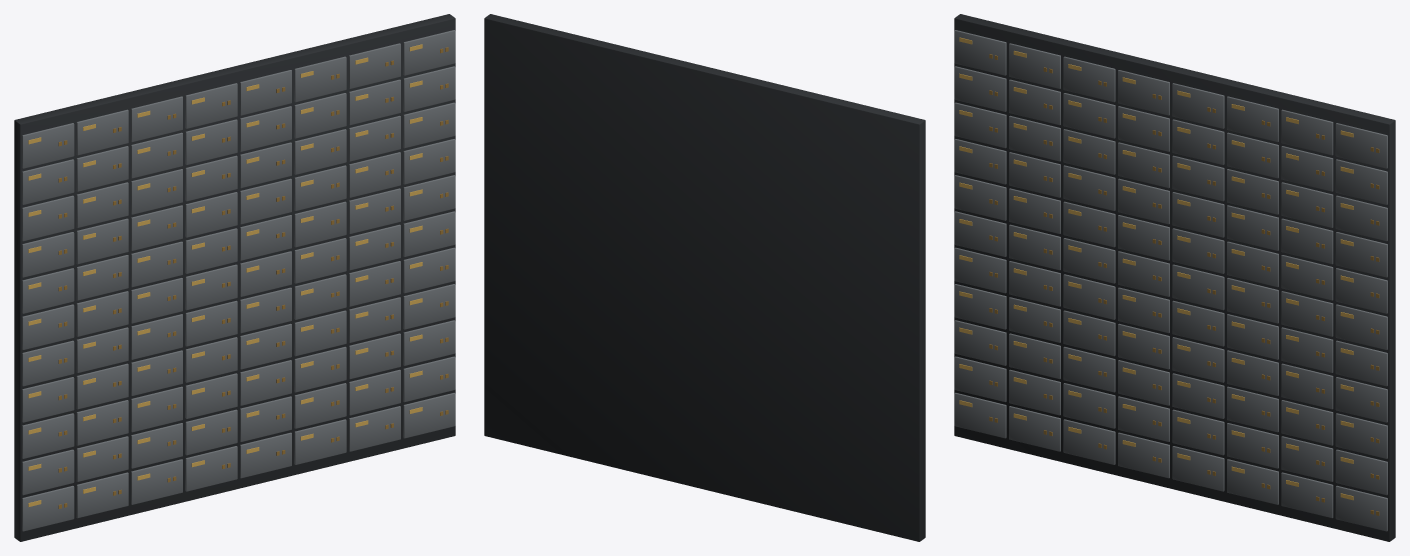
Rendered from tideline_deposit_boxes.glb.
The picture shows the model from 3 angles, left to right: view 1: azimuth 30°, elevation 25°; view 2: azimuth 150°, elevation 25°; view 3: azimuth 330°, elevation 25°; orthographic projection.
Visible parts, largest first — view 1: tideline_deposit_boxes; view 2: tideline_deposit_boxes; view 3: tideline_deposit_boxes.
Part boxes in pixels (box(x1,y1,x2,y2)): tideline_deposit_boxes: box(14, 14, 455, 541); tideline_deposit_boxes: box(484, 14, 925, 541); tideline_deposit_boxes: box(954, 14, 1395, 541).
Size of the model in its own units: 2.4 by 2.2 by 0.076.
